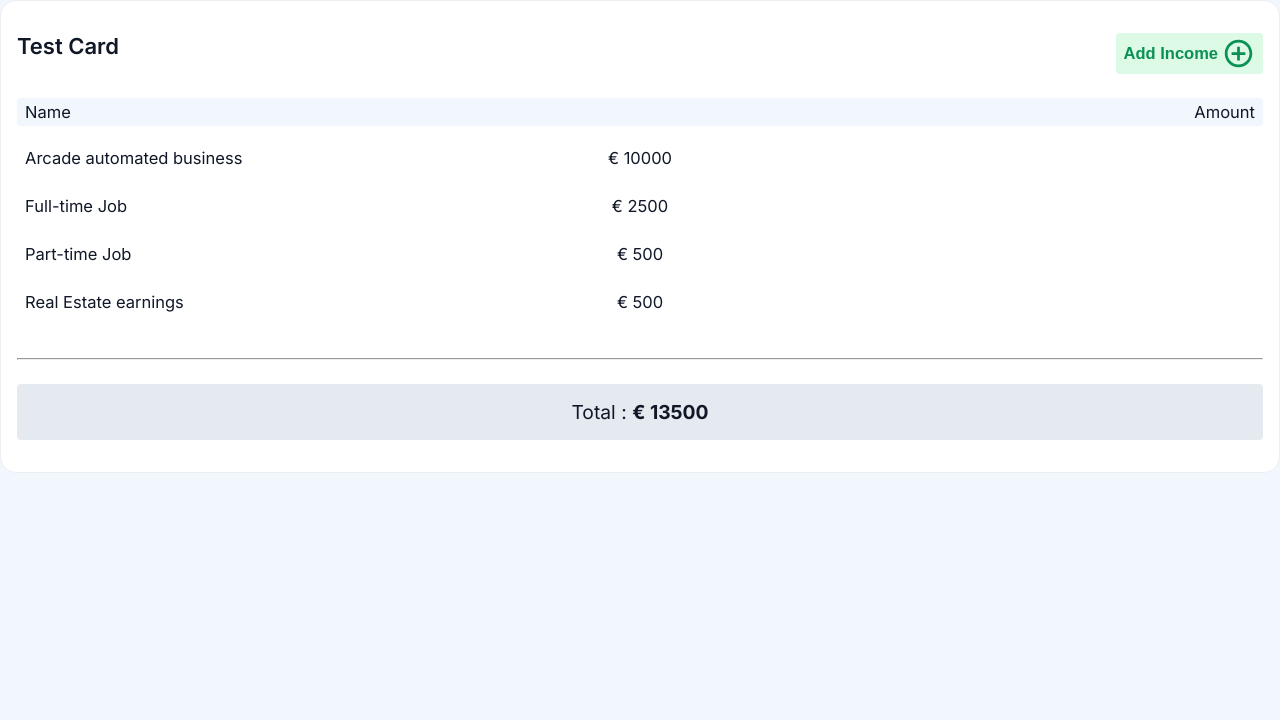
BigCard Component › opens dialog when add button is clicked
What coordinates should you click on to do the following:
click the button "Add Income"
I would click on:
 (1189, 54)
Its box is [1116,33,1263,74].
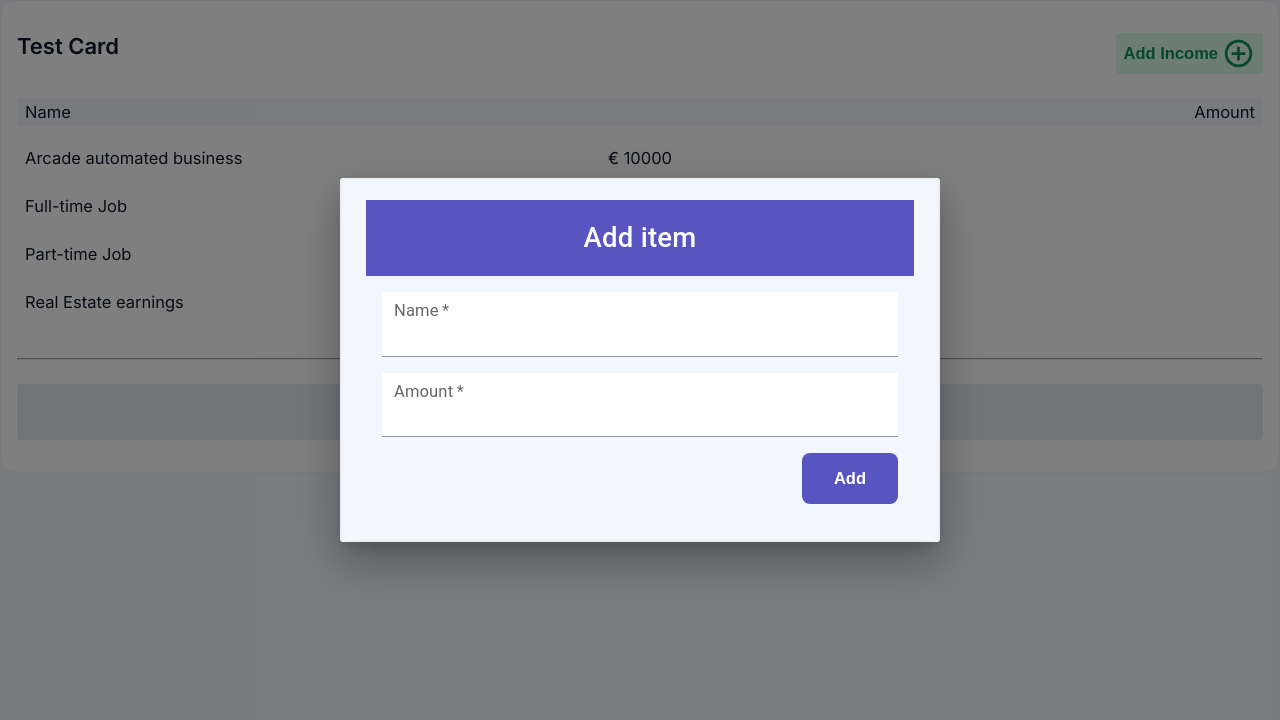
Expected: the heading "Add item" is shown, [366,200,914,276]
